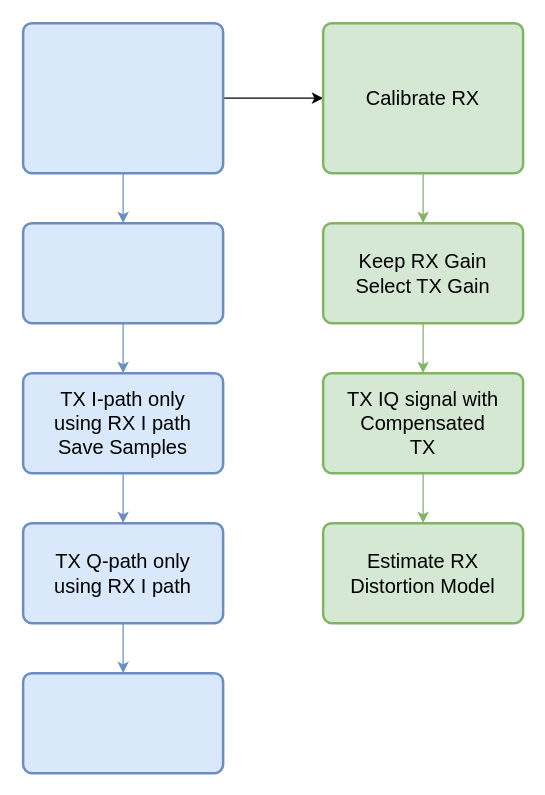
This 545x795 diagram has some shape labels left out. The centre of each missing label's shape, as x and y in pixels:
"Calibrate TX" goes at (122,97).
"Estimate TX Distortion Model" goes at (122,722).
"Keep TX Gain Gain Training Decide RX Gain For cal" goes at (122,272).
